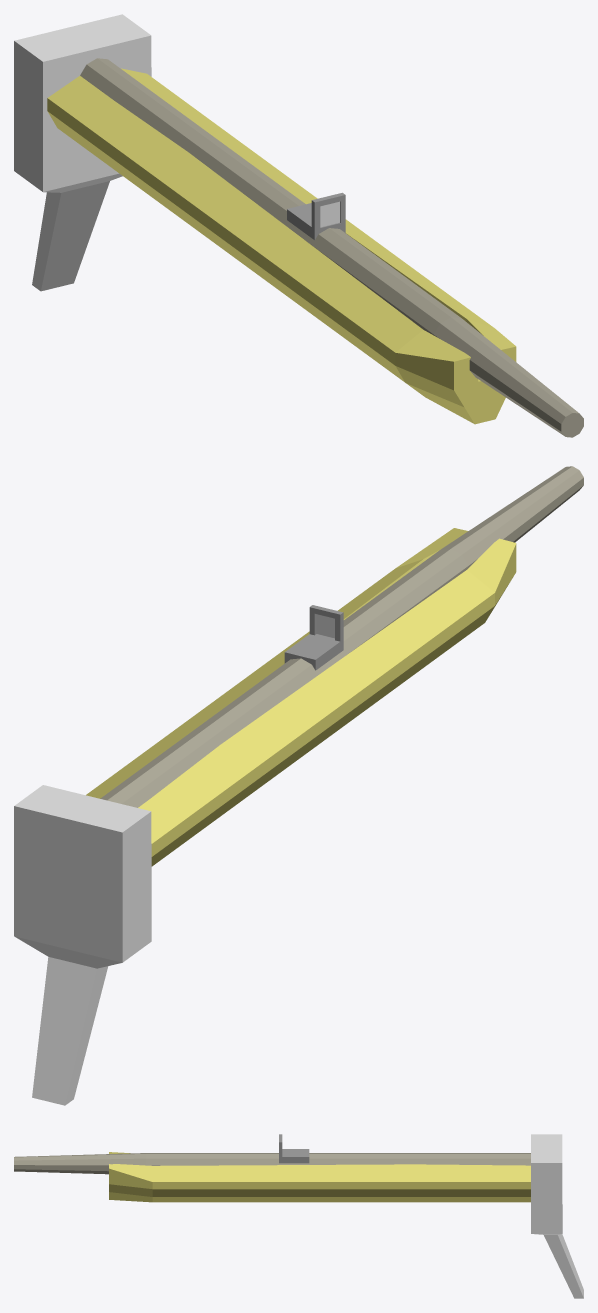
The model's file is gun1.fbx.
3 views of the same model, one above another, from view 1: azimuth 30°, elevation 25°; view 2: azimuth 150°, elevation 25°; view 3: azimuth 270°, elevation 25° (orthographic). The views are drawn at different scales.
Visible parts, largest first — view 1: Cube.010; view 2: Cube.010; view 3: Cube.010.
Boxes of the visible parts, x1,y1,x2,y2 form: Cube.010: (14,14,583,437); Cube.010: (14,466,583,1105); Cube.010: (14,1134,583,1298).
Size of the model in its own units: 137 by 347 by 1147.
